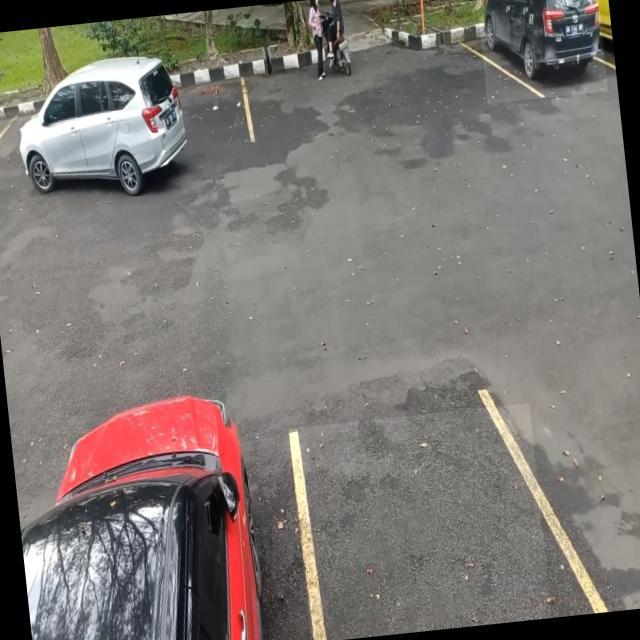empty: (288, 402, 551, 640)
occupied: (474, 0, 607, 103)
